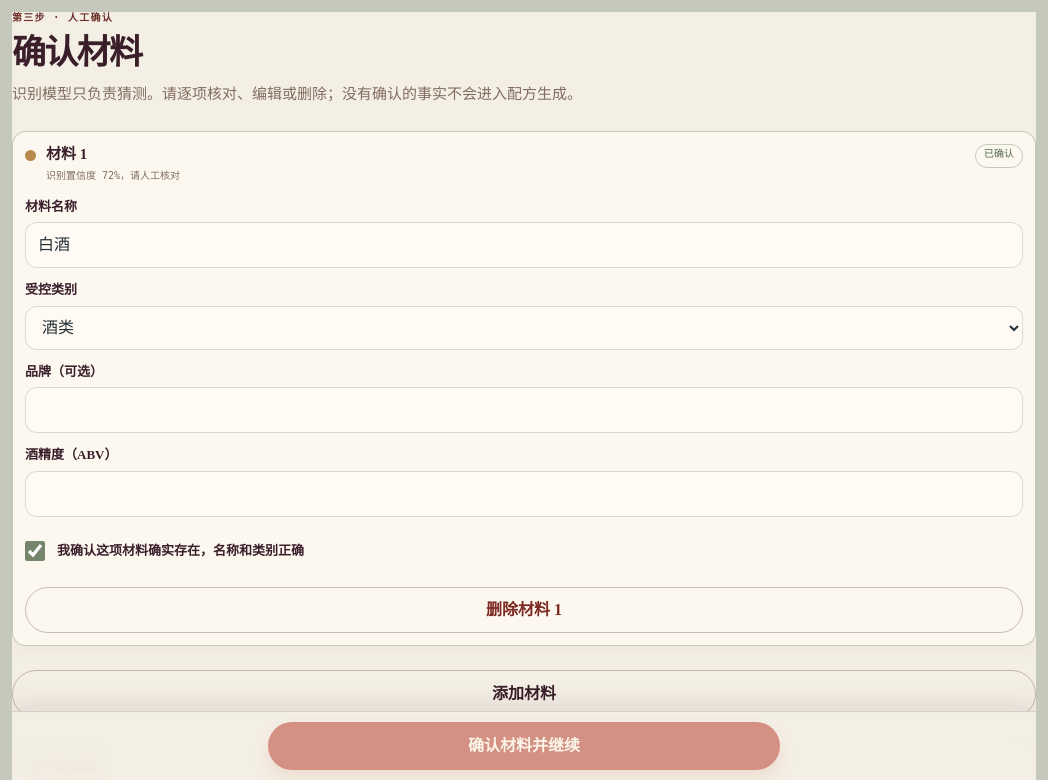
IngredientConfirmationScreen › requires ABV for a confirmed spirit while keeping confidence non-blocking and editable
The image size is (1048, 780).
Expected: the text "识别置信度 72%，请人工核对" is shown, [46,169,180,183]
Expected: the button "确认材料并继续" is disabled, [268,722,780,770]
Replace the text in the field named "材料 1 名称" with "高粱白酒" at point(524, 245), box [25,222,1023,268]
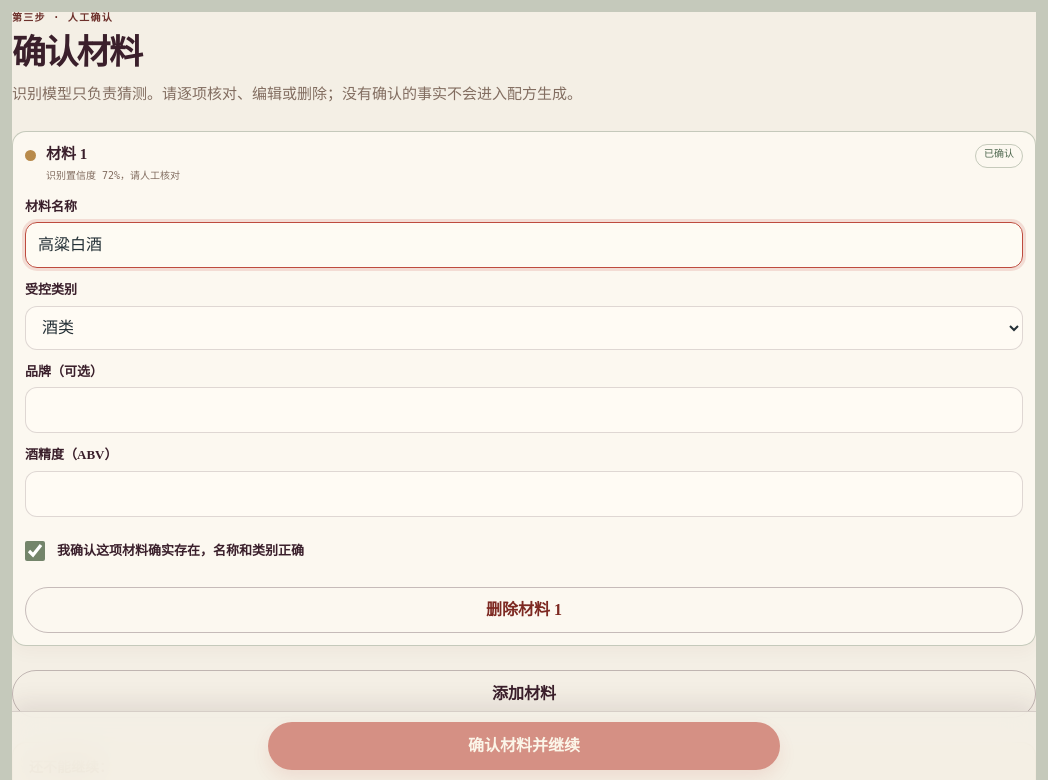
Type "42" into the number field named "材料 1 酒精度（ABV）".
click(524, 494); type("42")  # box [25,471,1023,517]
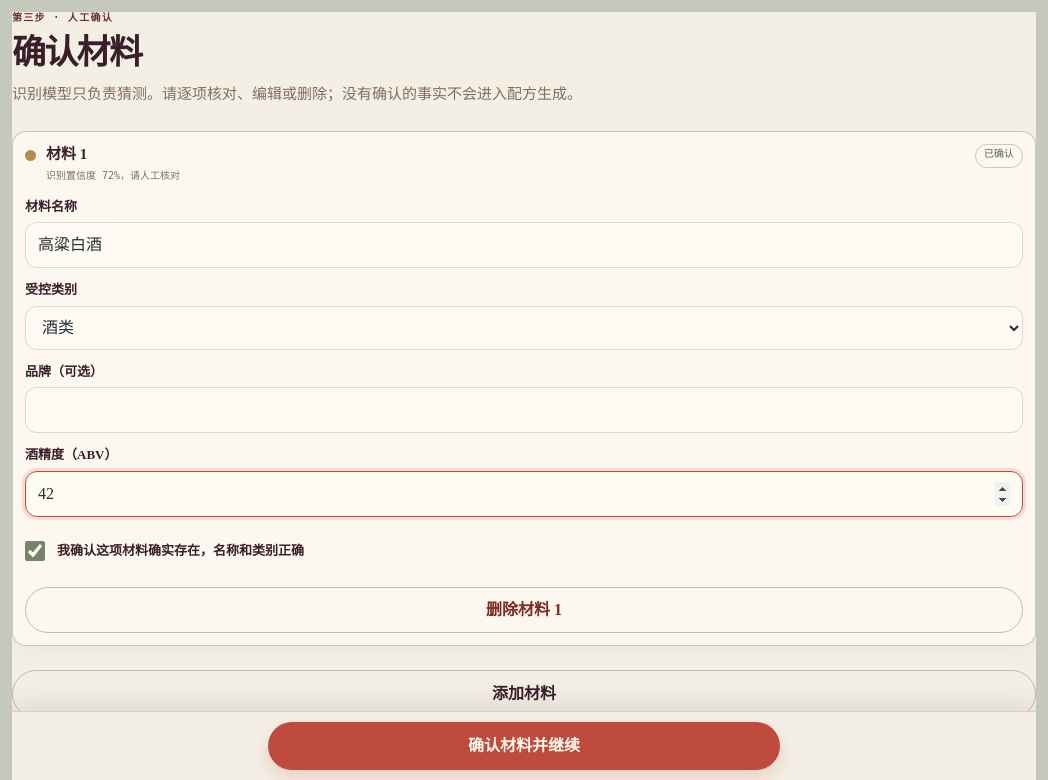
Now the button "确认材料并继续" is enabled, box [268,722,780,770]
